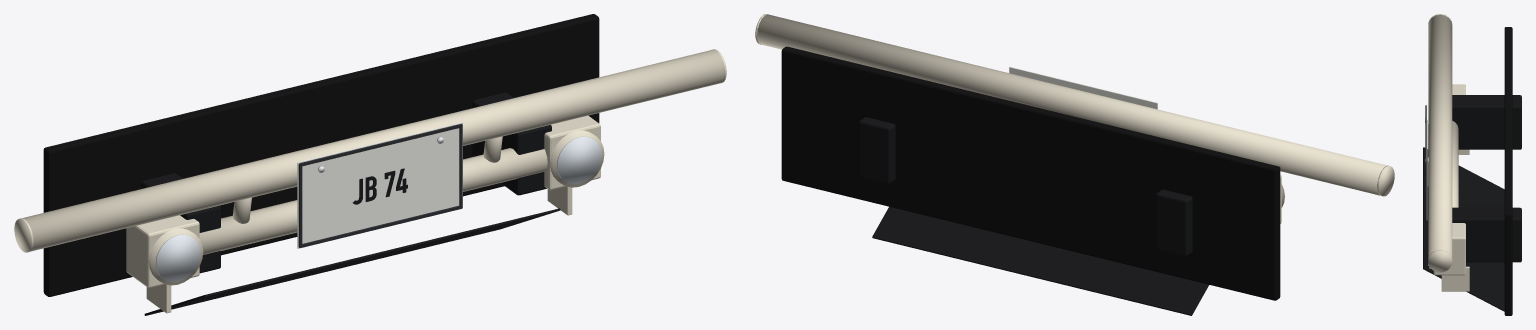
File: frontBumper_klc_trad.glb
The picture shows the model from 3 angles, left to right: view 1: azimuth 30°, elevation 25°; view 2: azimuth 150°, elevation 25°; view 3: azimuth 270°, elevation 25°; orthographic projection. The views are drawn at different scales.
Visible parts, largest first — view 1: valance, upper, plate, lower, skid, fogBox-1, mount1, fogLens400, fogLens-400, fogBox1, mount-1, fogHsg400 (+7 smaller); view 2: valance, upper, skid, mount-1, mount1, plate; view 3: upper, skid, mount-1, mount1, valance, fogBox1, lower, bracket1.001, cap1.002, plate, fogBox-1, plateRim0_3 (+1 smaller).
Part boxes in pixels (<box>): valance: <box>43,14,599,296</box>; upper: <box>21,49,724,251</box>; plate: <box>297,122,462,248</box>; lower: <box>199,148,547,254</box>; skid: <box>144,208,560,315</box>; fogBox-1: <box>126,215,199,287</box>; mount1: <box>472,92,551,195</box>; fogLens400: <box>557,136,601,184</box>; fogLens-400: <box>155,234,200,282</box>; fogBox1: <box>544,115,600,190</box>; mount-1: <box>141,173,220,273</box>; fogHsg400: <box>549,130,604,187</box>; valance: <box>781,46,1280,300</box>; upper: <box>757,14,1388,195</box>; skid: <box>872,206,1208,315</box>; mount-1: <box>1156,189,1192,256</box>; mount1: <box>859,117,895,183</box>; plate: <box>1009,67,1157,109</box>; upper: <box>1428,14,1452,258</box>; skid: <box>1423,147,1504,311</box>; mount-1: <box>1452,95,1521,149</box>; mount1: <box>1452,207,1521,262</box>; valance: <box>1504,27,1512,315</box>; fogBox1: <box>1433,223,1465,275</box>; lower: <box>1452,121,1458,207</box>; bracket1.001: <box>1441,266,1469,291</box>; cap1.002: <box>1428,250,1452,272</box>; plate: <box>1426,104,1427,220</box>; fogBox-1: <box>1452,84,1465,94</box>; plateRim0_3: <box>1425,161,1426,219</box>.
Bounding box in the file's own units: 1.39 × 0.3613 × 0.2445.
